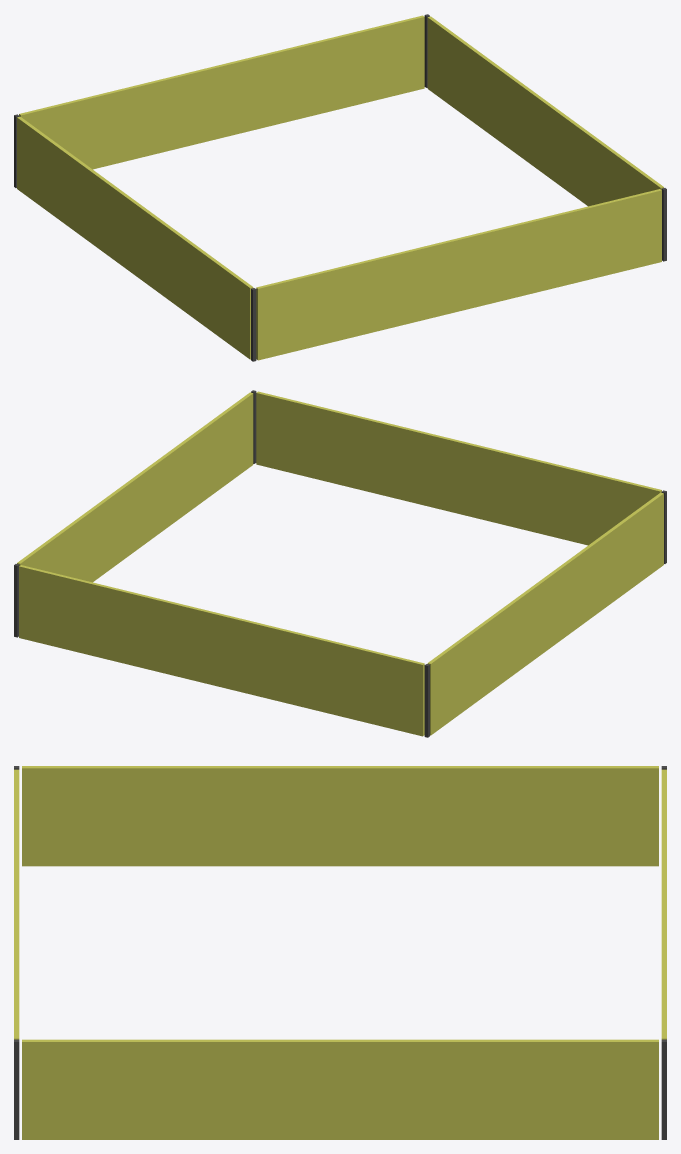
Rendered from PillarWall.fbx.
3 views of the same model, one above another, from view 1: azimuth 30°, elevation 25°; view 2: azimuth 150°, elevation 25°; view 3: azimuth 270°, elevation 25° (orthographic). The views are drawn at different scales.
Visible parts, largest first — view 1: polySurface1; view 2: polySurface1; view 3: polySurface1.
Part boxes in pixels (x1=…): polySurface1: x1=14, y1=14, x2=666, y2=361; polySurface1: x1=14, y1=390, x2=666, y2=737; polySurface1: x1=14, y1=766, x2=666, y2=1139.
Bounding box in the file's own units: 121 × 20 × 121.
